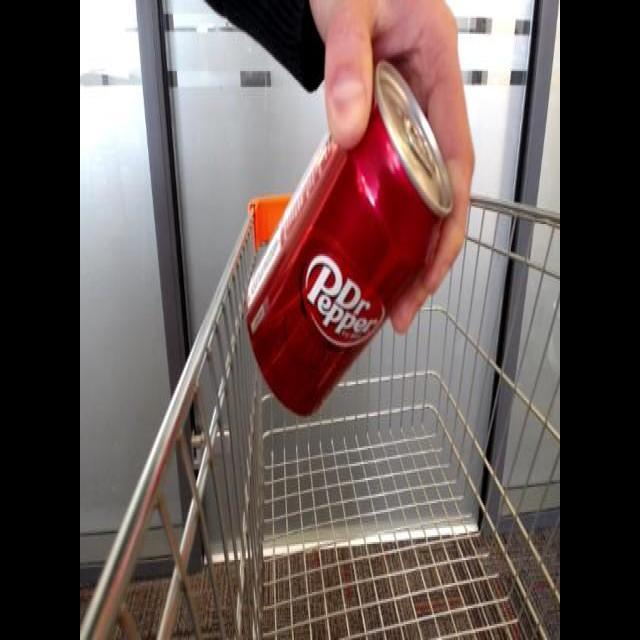Dr Pepper: (240, 44, 462, 427)
